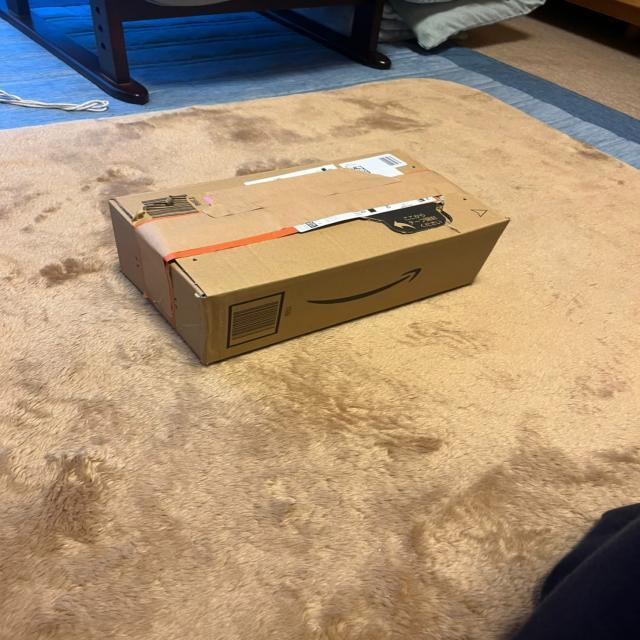box: (106, 144, 514, 368)
